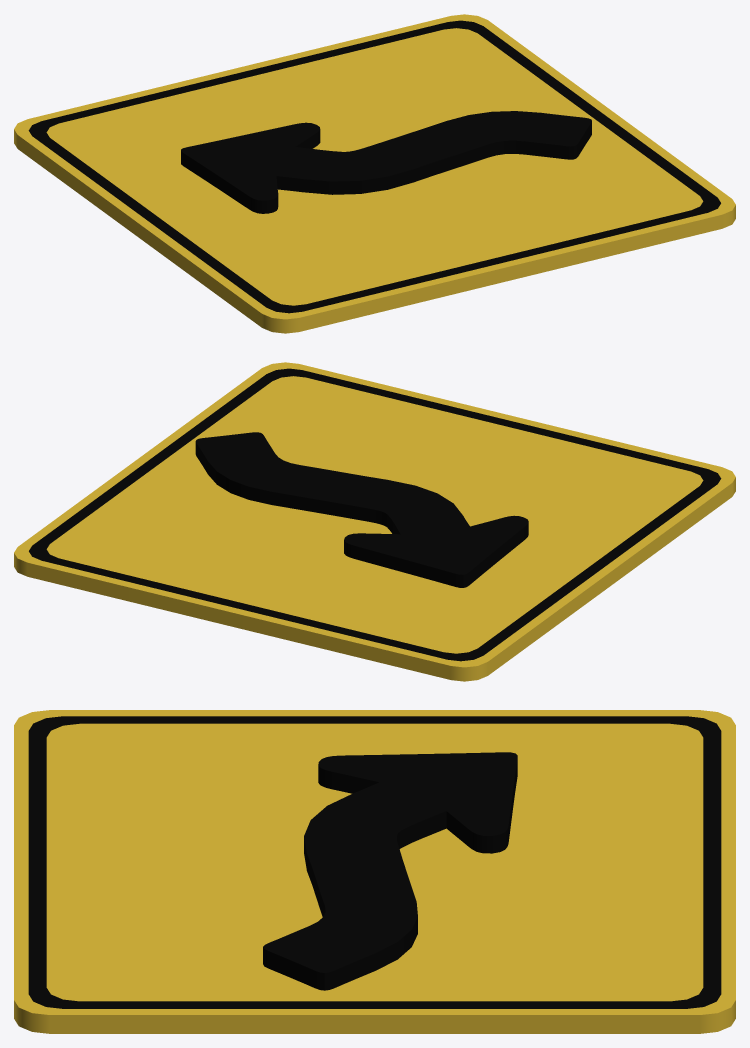
Rendered from left_reverse_curve_sign.fbx.
3 renders of one model, top to bottom at view 1: azimuth 30°, elevation 25°; view 2: azimuth 150°, elevation 25°; view 3: azimuth 270°, elevation 25°, orthographic. The views are drawn at different scales.
Visible parts, largest first — view 1: square_yellow_sign, LeftReverseCurve; view 2: square_yellow_sign, LeftReverseCurve; view 3: square_yellow_sign, LeftReverseCurve.
Boxes of the visible parts, x1=… form: square_yellow_sign: x1=14, y1=14, x2=735, y2=333; LeftReverseCurve: x1=181, y1=111, x2=591, y2=213; square_yellow_sign: x1=14, y1=362, x2=735, y2=681; LeftReverseCurve: x1=195, y1=432, x2=528, y2=587; square_yellow_sign: x1=14, y1=710, x2=735, y2=1033; LeftReverseCurve: x1=263, y1=752, x2=517, y2=990.
Size of the model in its own units: 70.96 by 3.94 by 70.96.
